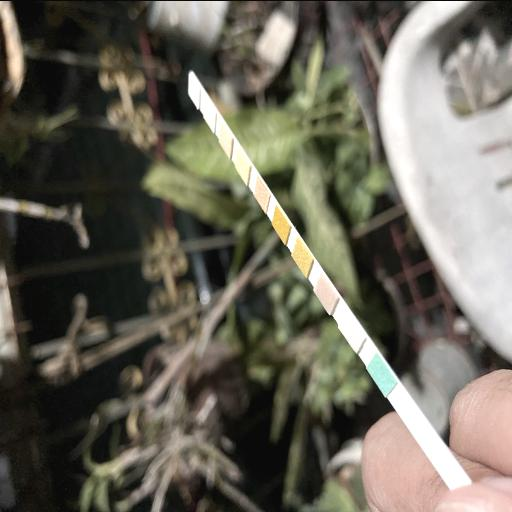Bilirubin: (346, 318, 358, 338)
Blood: (276, 211, 284, 233)
Glucose: (374, 360, 386, 382)
Ketone: (320, 280, 330, 302)
Leukocytes: (191, 82, 197, 98)
Nitrite: (205, 104, 213, 120)
Protein: (238, 154, 246, 176)
SpGravity: (298, 244, 306, 266)
Urobilinogen: (221, 130, 229, 146)
pH: (257, 182, 265, 200)
strip: (190, 70, 472, 488)
